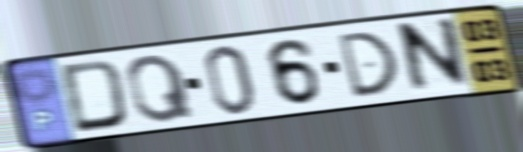0: (201, 42, 259, 118)
6: (263, 37, 323, 108)
D: (58, 57, 131, 136), (334, 28, 401, 101)
N: (398, 13, 472, 98)
Q: (124, 52, 198, 126)
